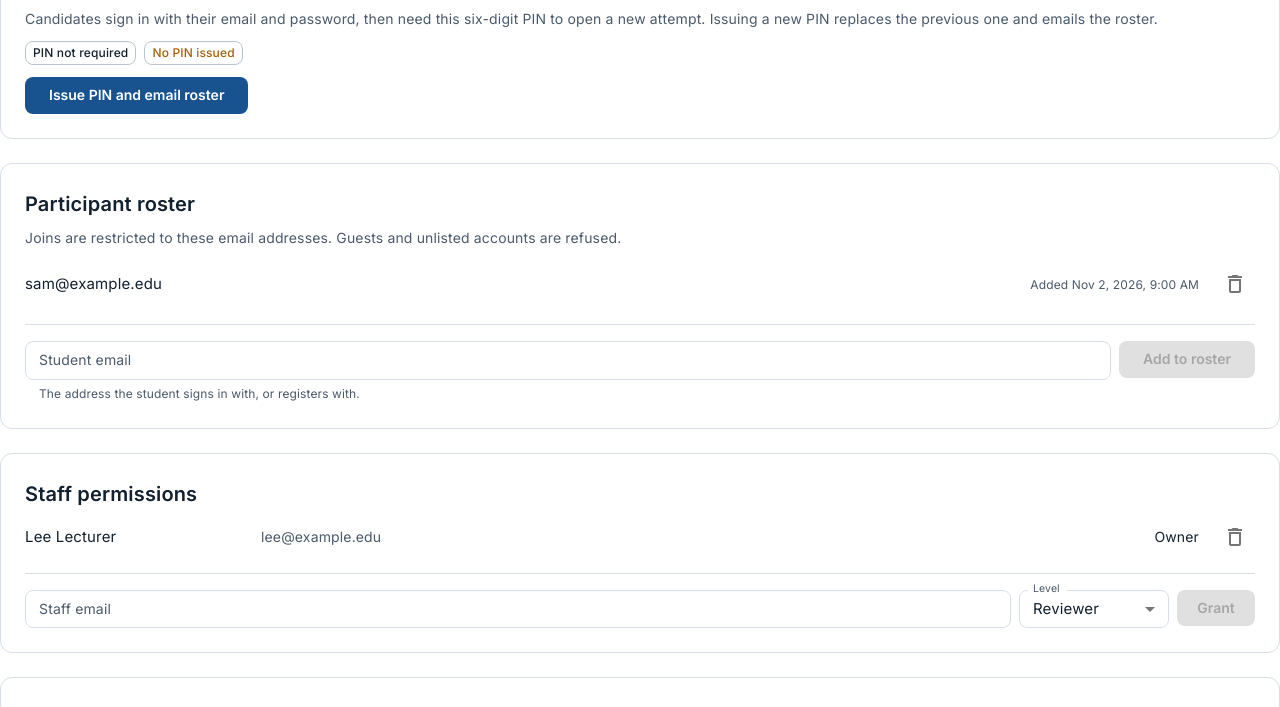
Test: SettingsTab › adds and removes roster entries
(page scrolled)
expect the text "sam@example.edu" is shown: met, box [25,274,162,294]
expect the text "Joins are restricted to these email addresses" is shown: met, box [25,229,621,246]
Type "ada@example.edu" into the field labelled "Student email" at [568, 361], box [25,342,1111,380]
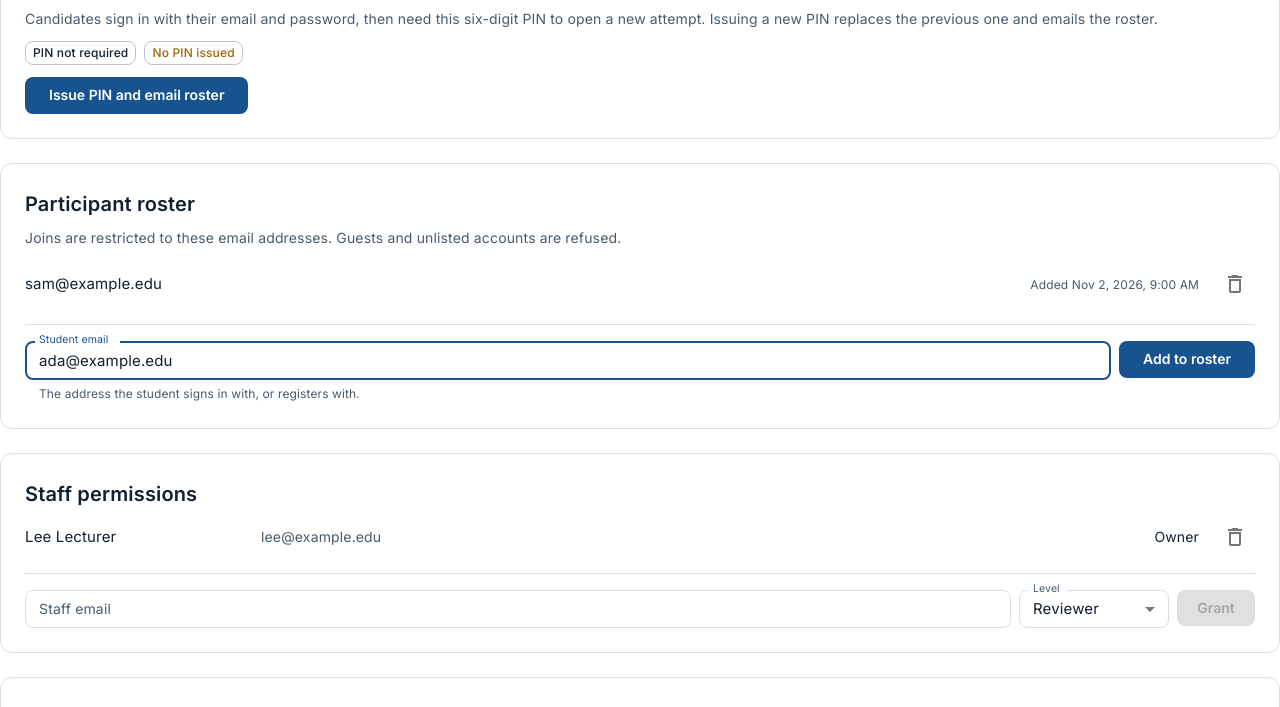
Click the button "Add to roster" at [1187, 360], box [1119,342,1255,378]
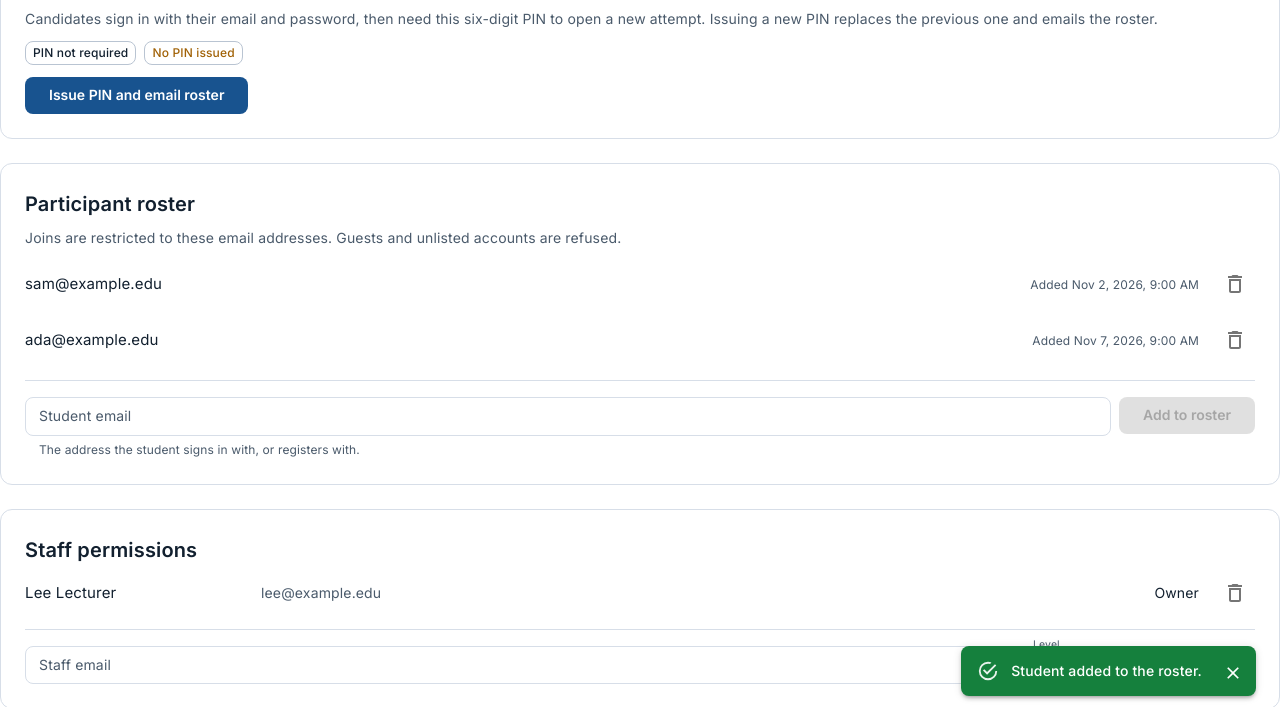
expect the text "ada@example.edu" is shown: met, box [25,330,159,350]
Click the button named "Remove ada@example.edu from the roster" at [1235, 340], box [1215,320,1255,360]
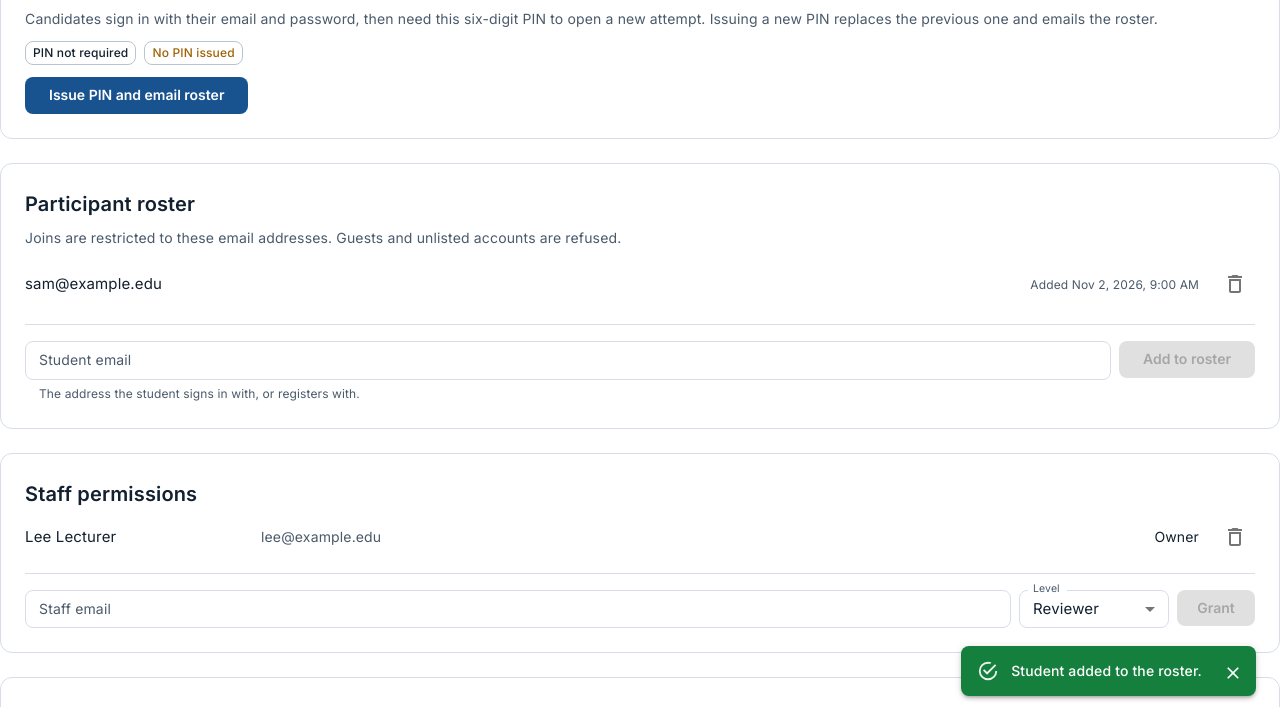
expect the text "sam@example.edu" is shown: met, box [25,274,162,294]
expect the text "ada@example.edu" is gone: met
